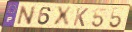5: (108, 7, 128, 30), (91, 7, 108, 28)
6: (37, 7, 52, 26)
K: (72, 7, 90, 28)
N: (15, 6, 37, 26)
X: (53, 6, 73, 27)
